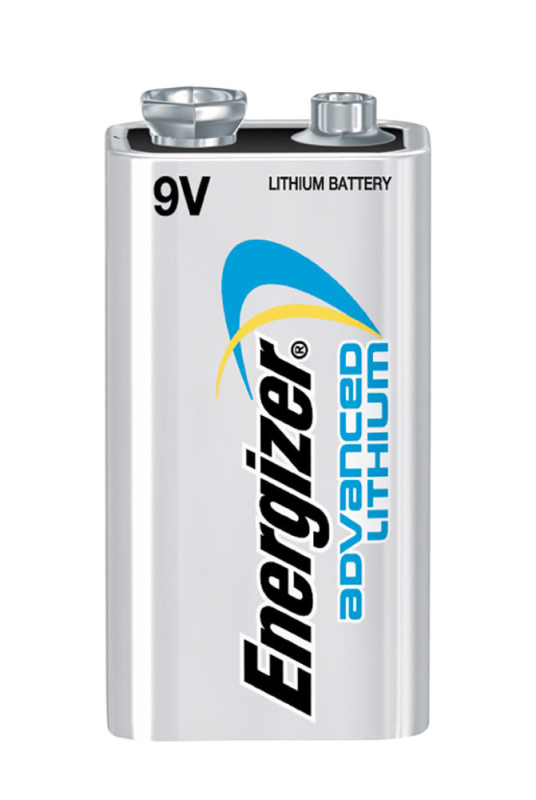9V: (89, 70, 448, 756)
